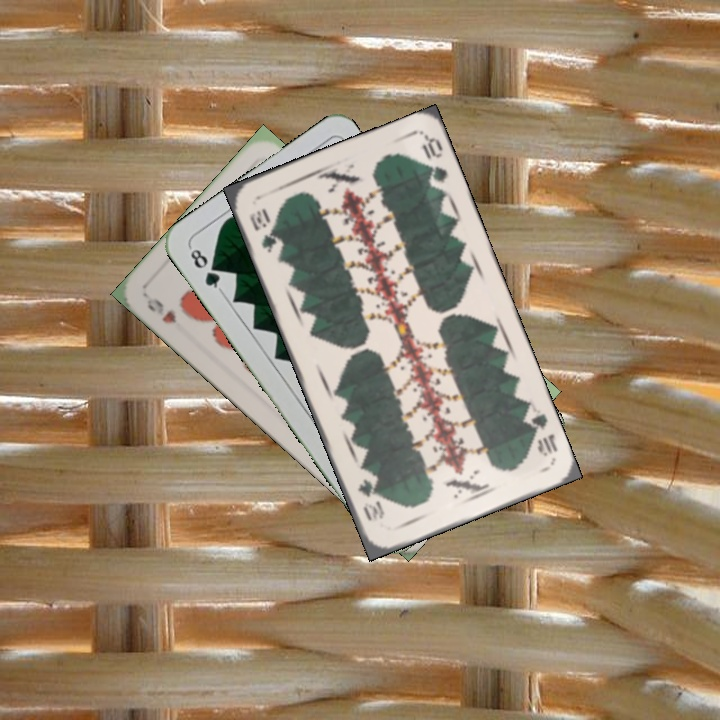G10: (520, 403, 561, 459), (245, 204, 280, 255)
G8: (185, 243, 225, 294)
H9: (142, 294, 180, 326)
